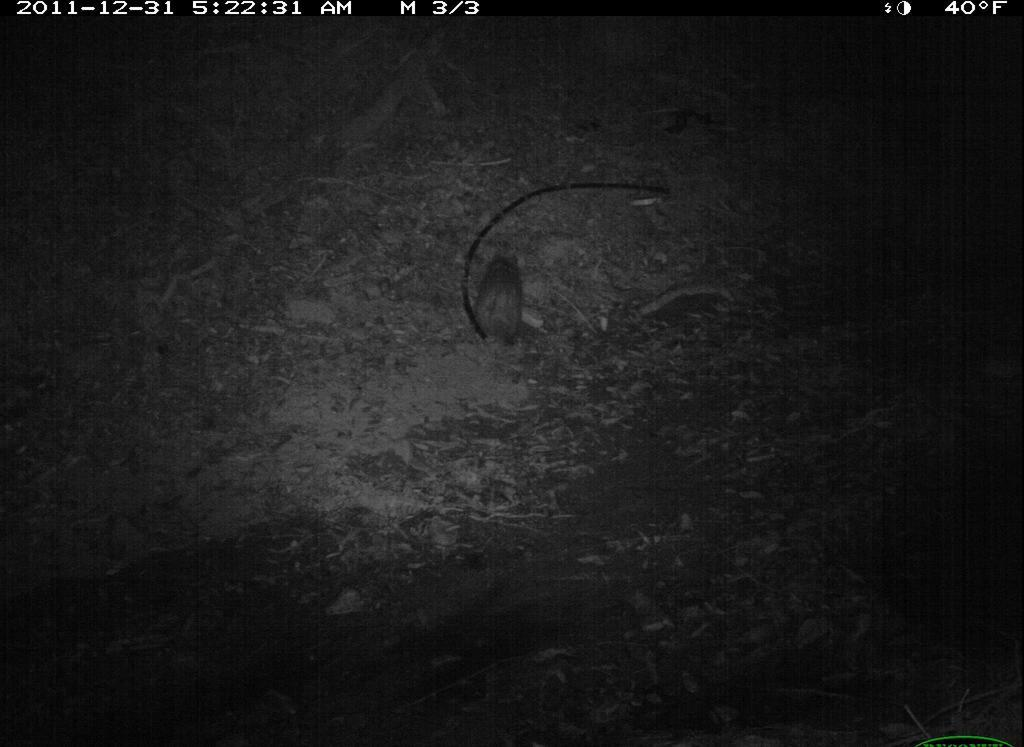opossum: (452, 244, 533, 361)
